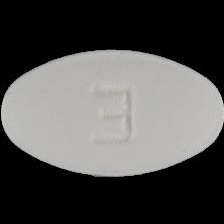0615-8018: (0, 0, 224, 224)
